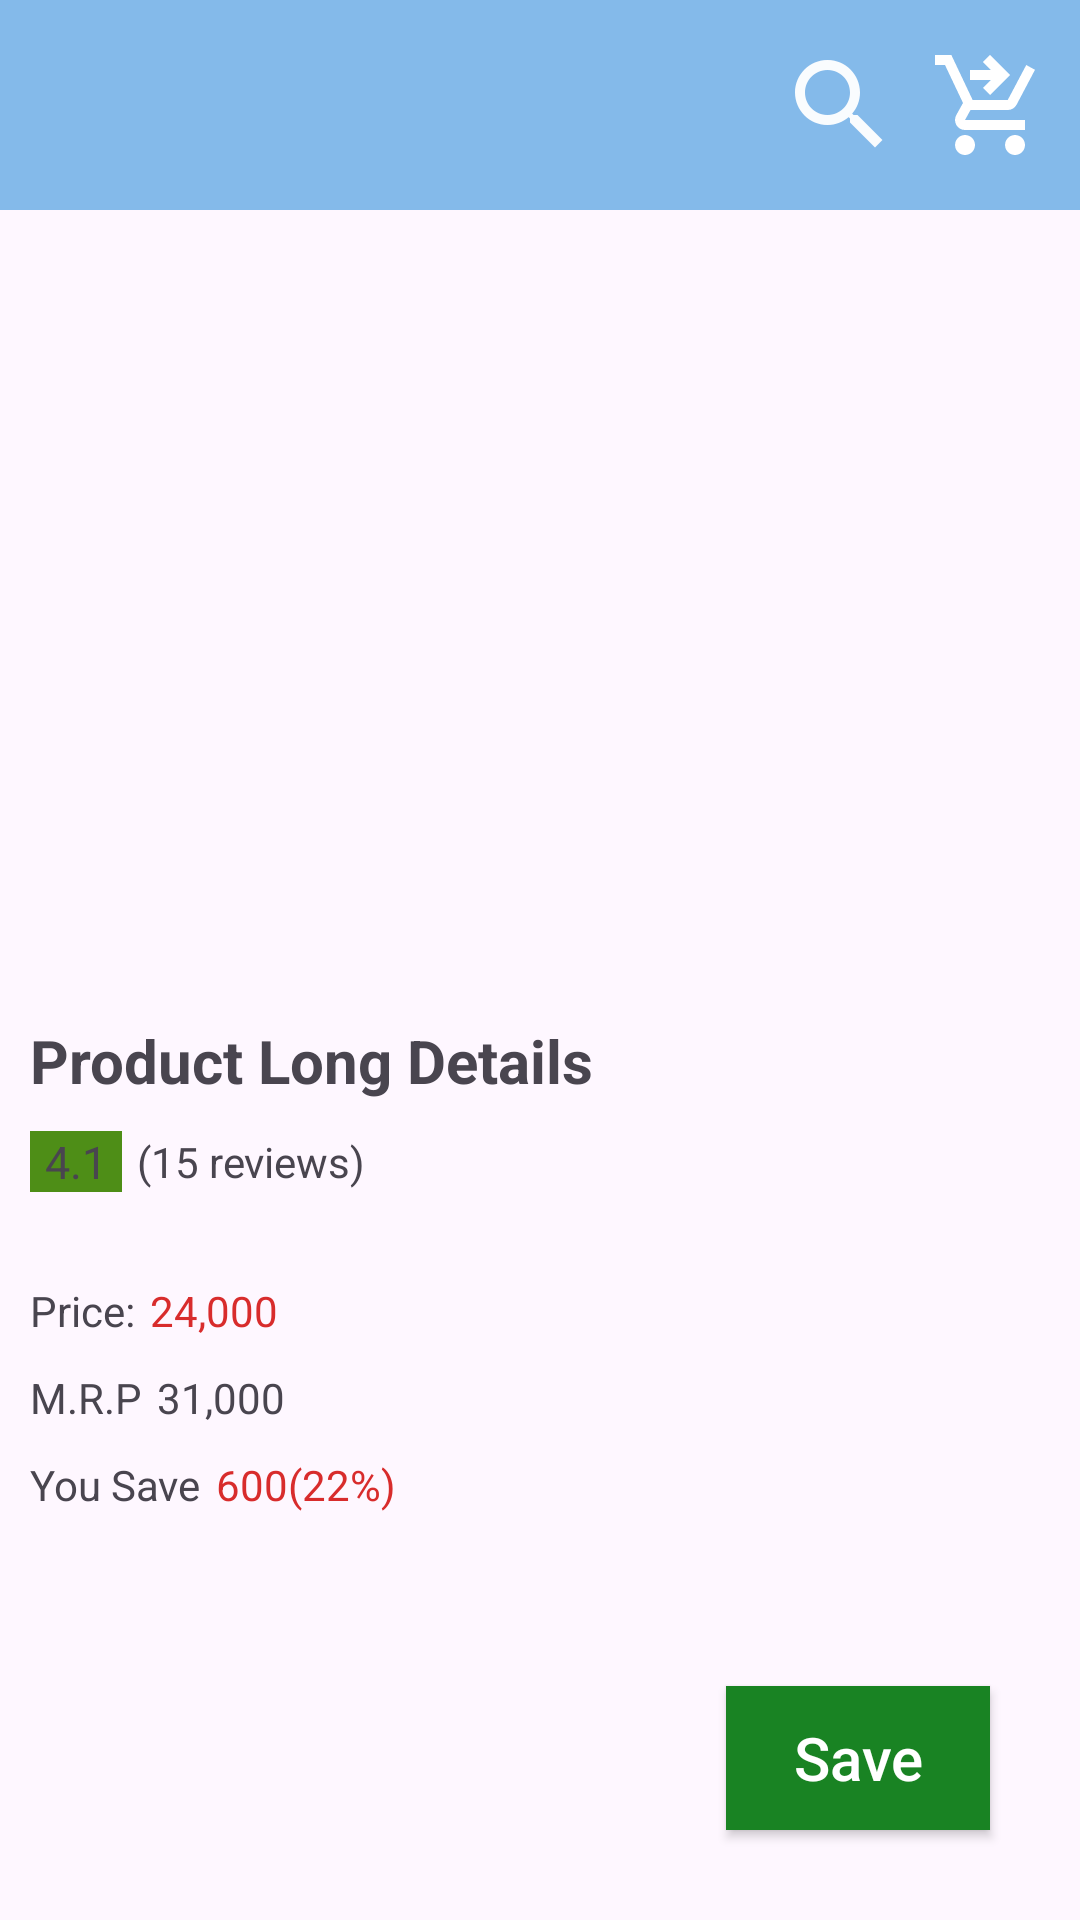

Named icons in this screenshot (1080px x 1920px) and their bounding boxes, (left=x1, top=y1, right=x2, bottom=y2):
search: (left=795, top=60, right=882, bottom=147)
shopping cart checkout: (left=935, top=55, right=1035, bottom=155)
